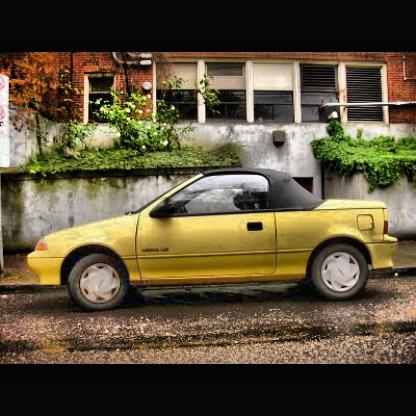Geo Metro Convertible 1993: (26, 170, 403, 314)
